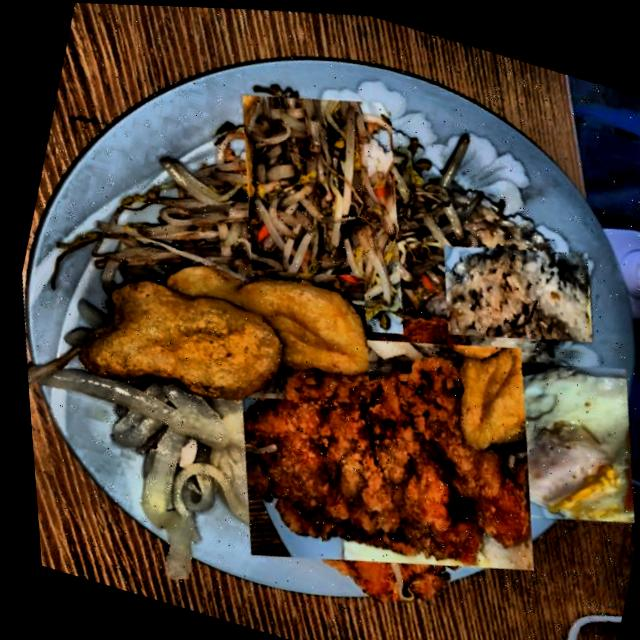Food: (180, 255, 577, 640), (37, 192, 400, 468), (169, 66, 467, 356), (433, 321, 640, 552), (421, 199, 605, 378)
